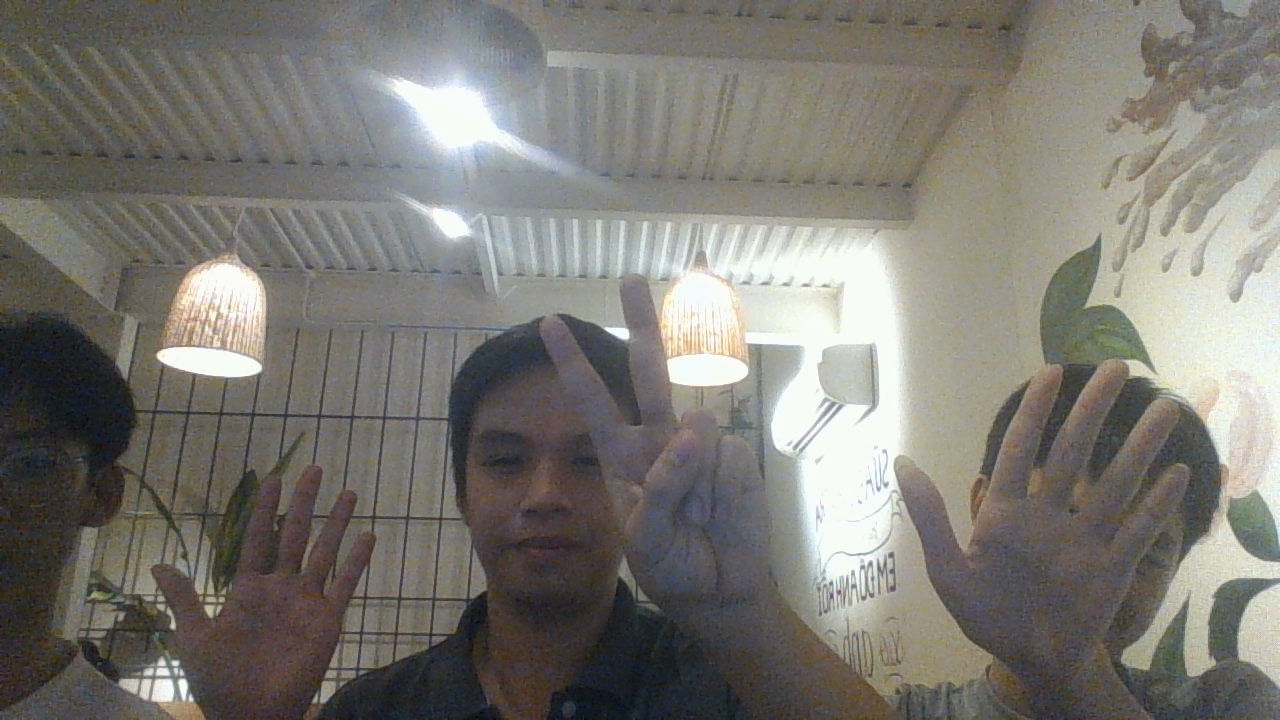check: (898, 354, 1193, 690), (146, 460, 383, 720)
wait: (536, 270, 784, 613)
